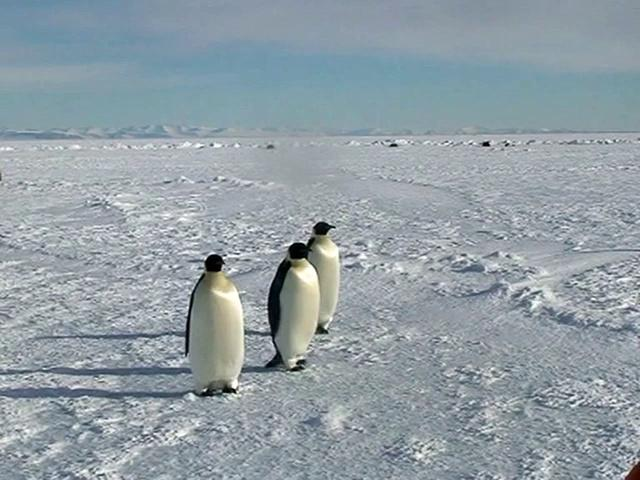animal: (309, 222, 341, 334)
